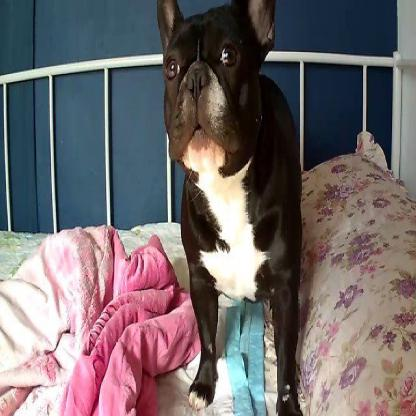dog: (150, 0, 309, 415)
